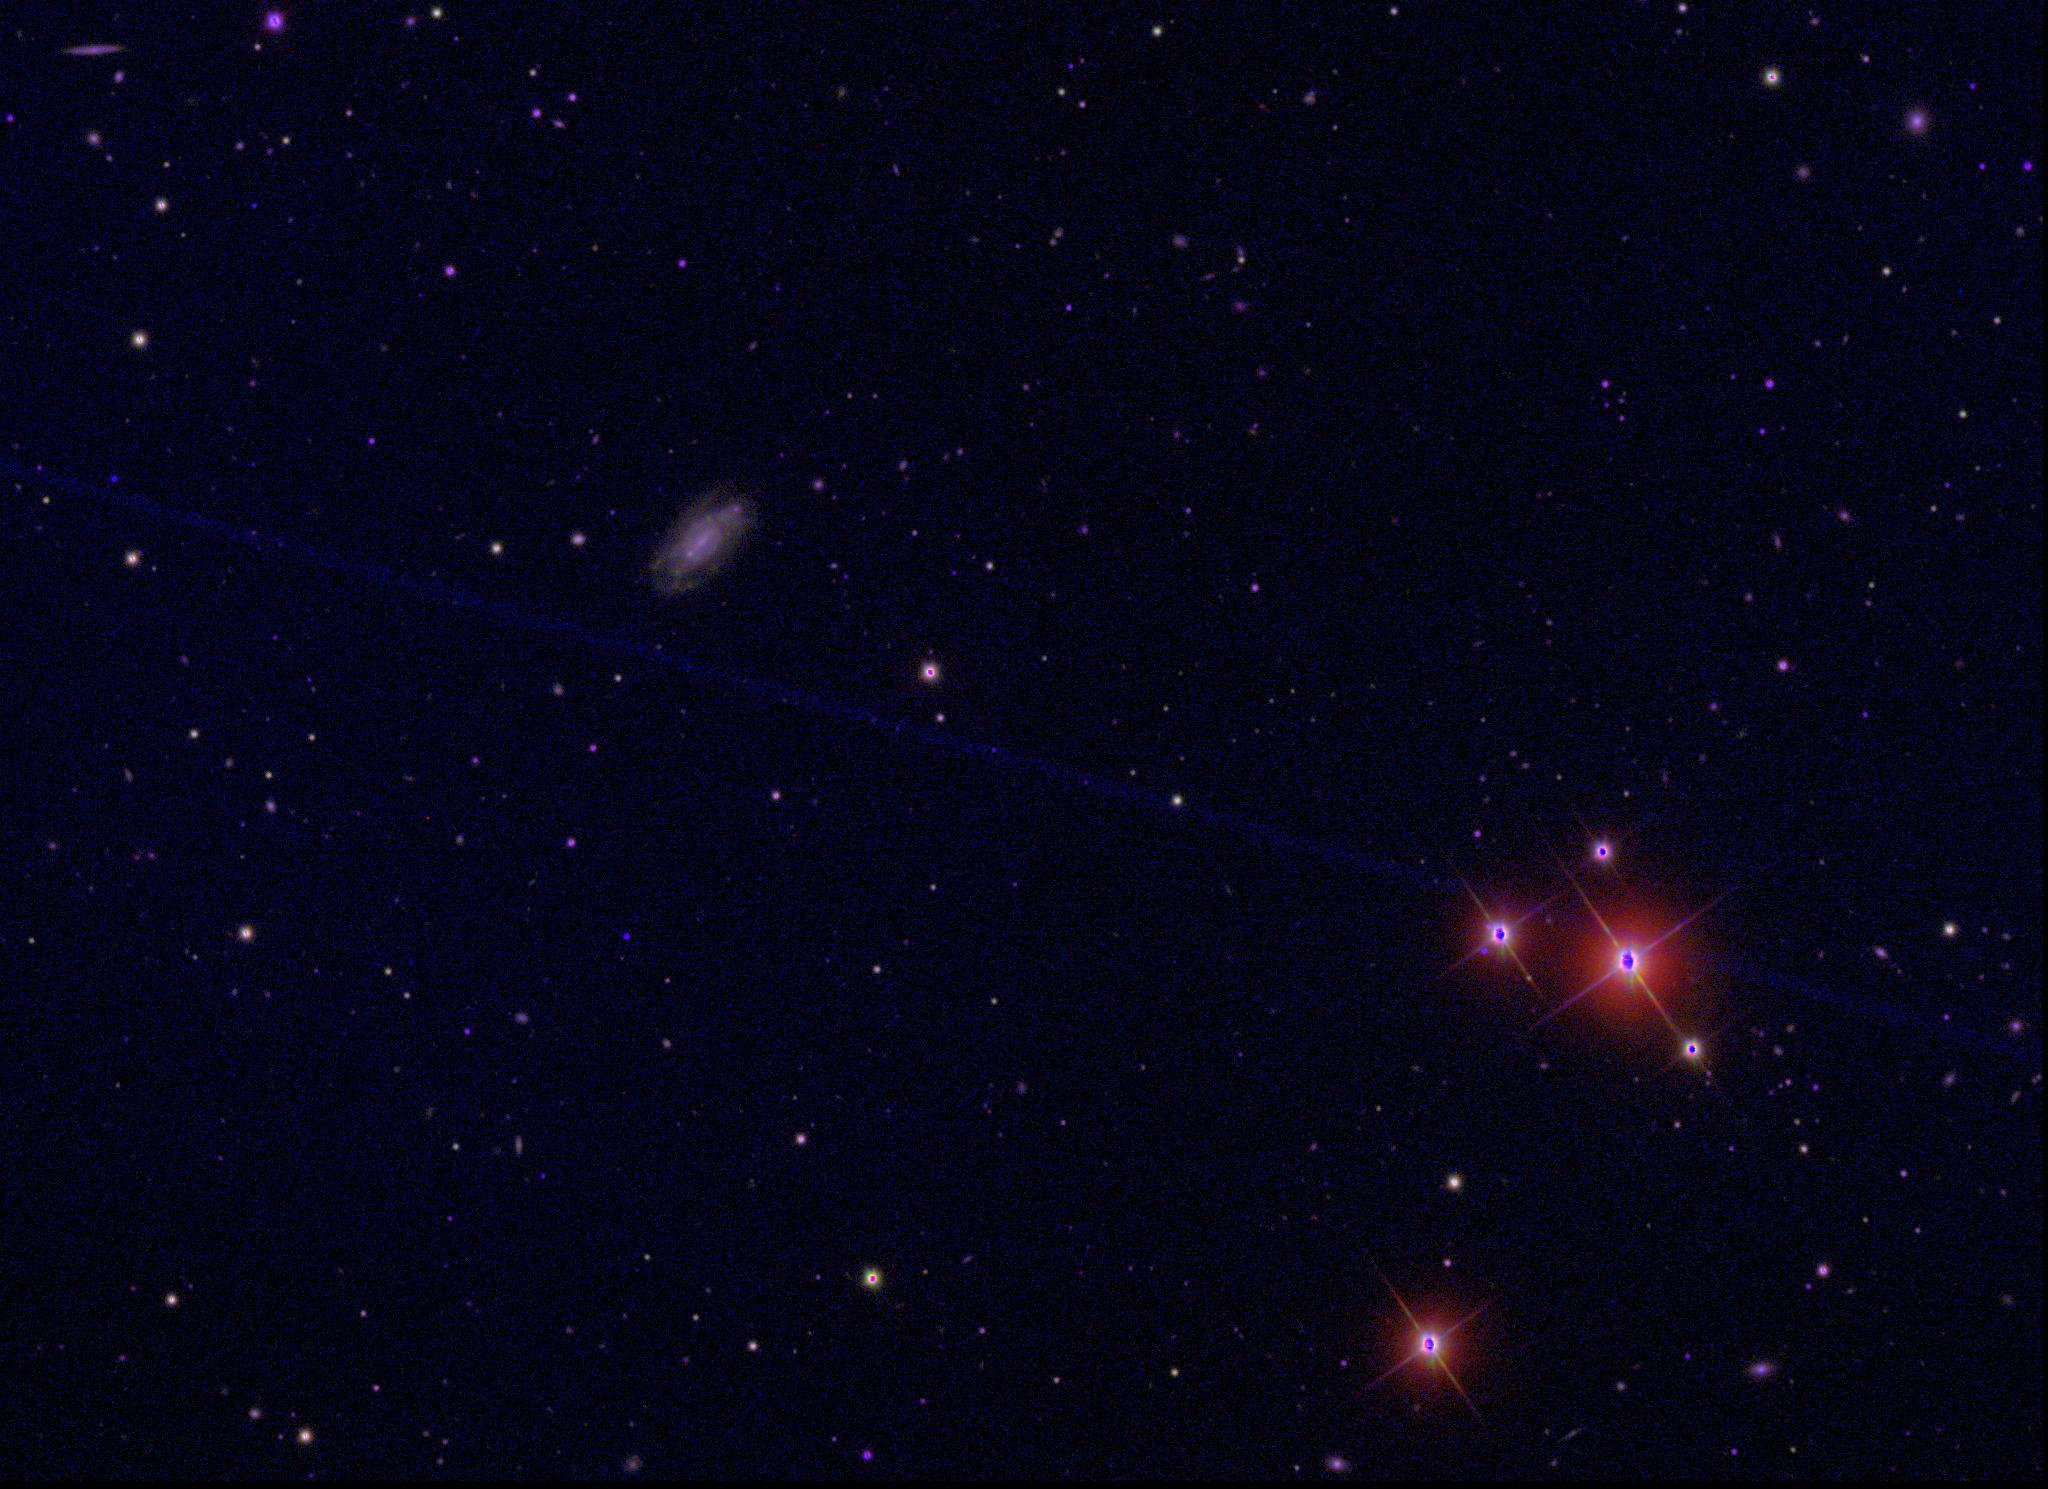L: (105, 472, 119, 487)
